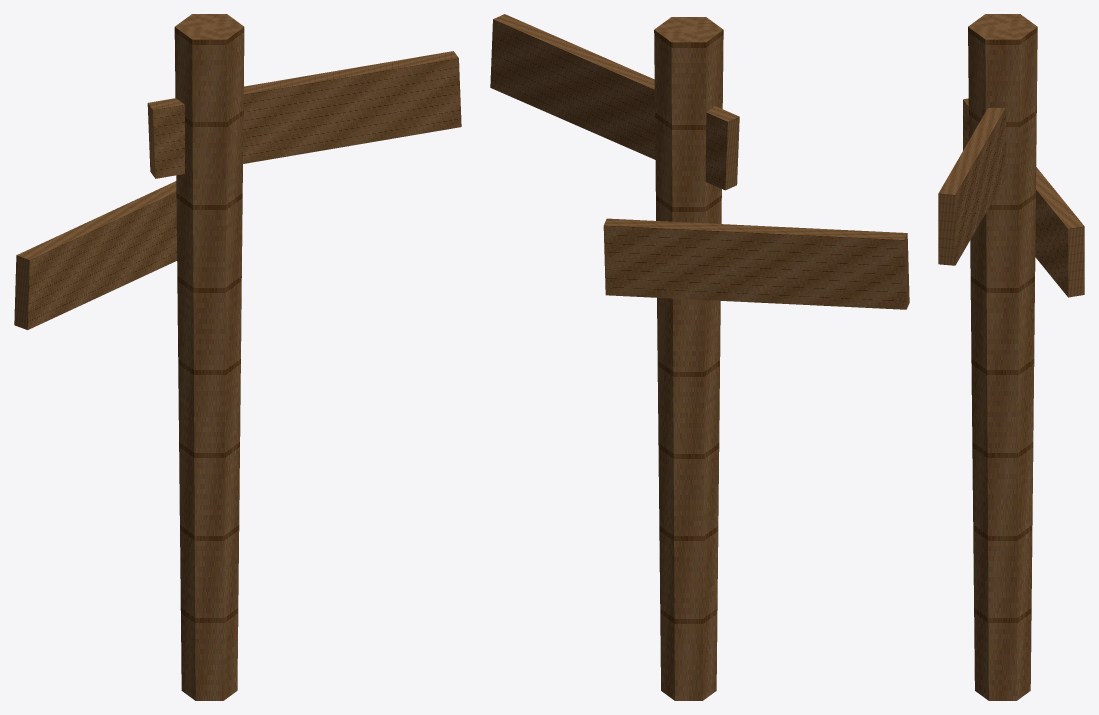
Rendered from placa_de_direcao_da_floresta.glb.
3 renders of one model, left to right at view 1: azimuth 30°, elevation 25°; view 2: azimuth 150°, elevation 25°; view 3: azimuth 270°, elevation 25°, orthographic.
Visible parts, largest first — view 1: placa_de_direcao_da_floresta; view 2: placa_de_direcao_da_floresta; view 3: placa_de_direcao_da_floresta.
Boxes of the visible parts, x1,y1,x2,y2 form: placa_de_direcao_da_floresta: [14, 14, 461, 700]; placa_de_direcao_da_floresta: [490, 14, 909, 700]; placa_de_direcao_da_floresta: [938, 14, 1084, 700].
Size of the model in its own units: 1.42 by 2.1 by 0.4191.
Materials: 1 (1 with a texture image).
